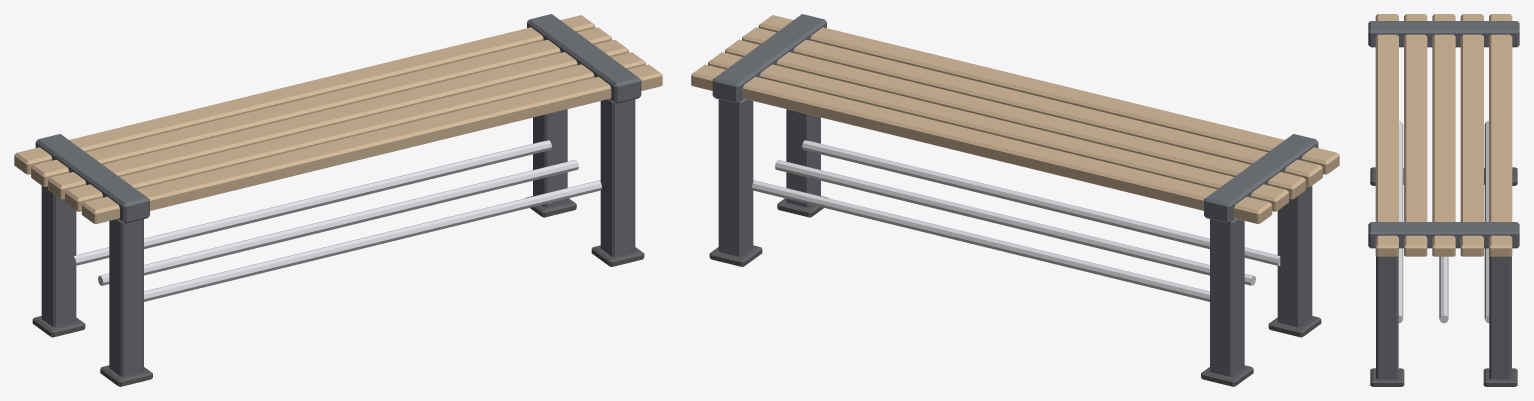
Rendered from bench_changing.glb.
3 renders of one model, left to right at view 1: azimuth 30°, elevation 25°; view 2: azimuth 150°, elevation 25°; view 3: azimuth 270°, elevation 25°, orthographic. The views are drawn at different scales.
Parts seen in each view (by area): view 1: changing-bench; view 2: changing-bench; view 3: changing-bench.
Boxes of the visible parts, box(x1,y1,x2,y2) form: changing-bench: box(14, 14, 662, 386); changing-bench: box(691, 14, 1339, 386); changing-bench: box(1368, 14, 1519, 386).
Bounding box in the file's own units: 1.46 × 0.4499 × 0.3999.
